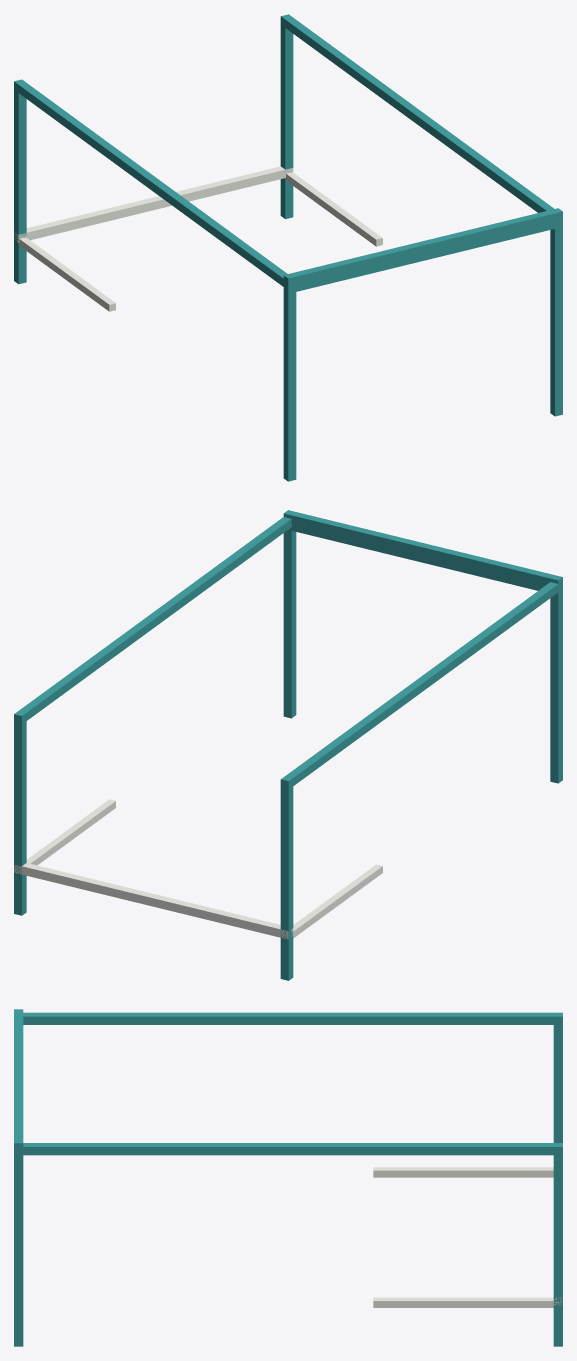
File: TK_GarageFrame_4x7.fbx
3 views of the same model, one above another, from view 1: azimuth 30°, elevation 25°; view 2: azimuth 150°, elevation 25°; view 3: azimuth 270°, elevation 25° (orthographic).
Parts seen in each view (by area): view 1: Lintel, TopRail, TopRail.001, BackRail, FramePost, FramePost.003, FramePost.002, FramePost.001, RearSideRail, RearSideRail.001; view 2: Lintel, TopRail, TopRail.001, BackRail, FramePost.001, FramePost.002, FramePost.003, FramePost, RearSideRail, RearSideRail.001; view 3: TopRail.001, TopRail, RearSideRail, RearSideRail.001, FramePost.002, FramePost.003, Lintel, FramePost.001.
Part boxes in pixels (x1,y1,x2,y2): Lintel: [283, 208, 562, 293]; TopRail: [14, 79, 292, 289]; TopRail.001: [280, 14, 560, 220]; BackRail: [14, 166, 293, 242]; FramePost: [283, 283, 296, 481]; FramePost.003: [280, 21, 293, 219]; FramePost.002: [550, 219, 562, 416]; FramePost.001: [14, 86, 26, 284]; RearSideRail: [19, 237, 115, 311]; RearSideRail.001: [286, 172, 382, 246]; Lintel: [283, 510, 562, 595]; TopRail: [280, 581, 562, 788]; TopRail.001: [14, 517, 291, 723]; BackRail: [14, 863, 293, 939]; FramePost.001: [280, 783, 293, 980]; FramePost.002: [283, 527, 296, 718]; FramePost.003: [14, 717, 26, 915]; FramePost: [550, 585, 562, 783]; RearSideRail: [293, 864, 382, 938]; RearSideRail.001: [26, 799, 115, 865]; TopRail.001: [14, 1143, 562, 1155]; TopRail: [23, 1012, 562, 1024]; RearSideRail: [373, 1167, 553, 1177]; RearSideRail.001: [373, 1297, 553, 1307]; FramePost.002: [14, 1151, 23, 1346]; FramePost.003: [553, 1151, 562, 1346]; Lintel: [14, 1009, 23, 1154]; FramePost.001: [553, 1020, 562, 1142].
Bounding box in the file's own units: 4.12 × 2.91 × 7.12.
